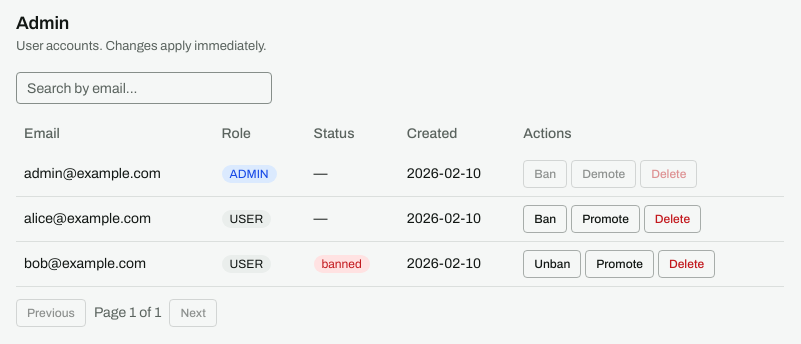
AdminPage › shows an error and refetches when a mutation fails
Expected: the text "alice@example.com" is shown, [16,197,214,242]
Click the button "Ban" in the row of "alice@example.com" at (545, 219), box [523,205,567,233]
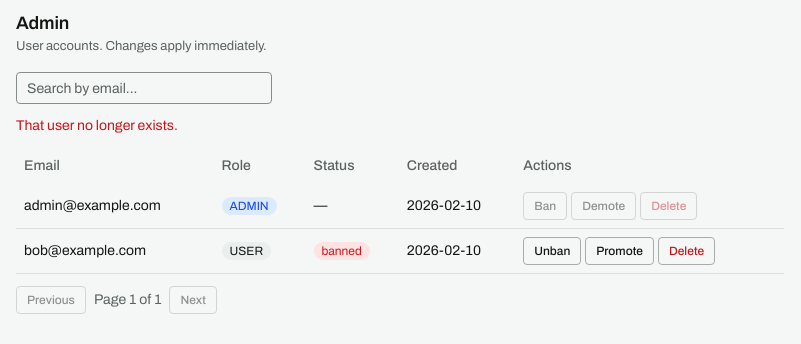
Now the message shows "no longer exists", box [16,118,178,133]
Now the text "alice@example.com" is gone
